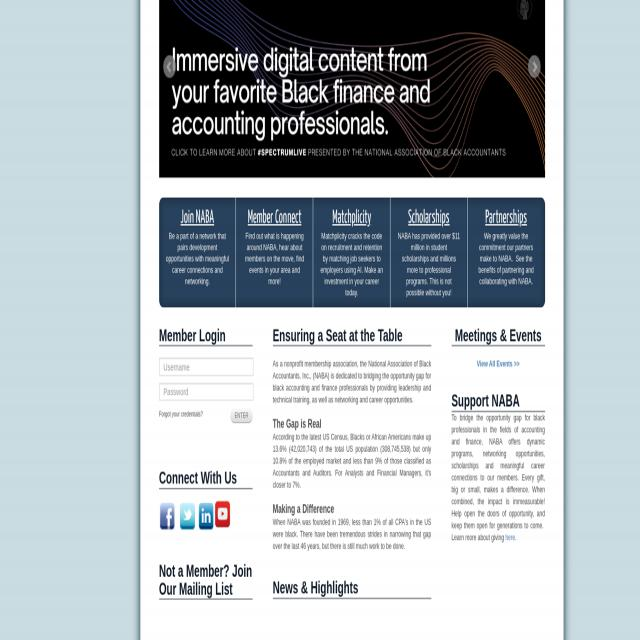button: (159, 501, 177, 531), (178, 501, 196, 531), (197, 501, 215, 531), (477, 359, 519, 369), (215, 501, 230, 528), (230, 408, 252, 423), (528, 55, 541, 77), (163, 55, 175, 77)
field: (159, 358, 253, 376), (159, 383, 253, 401)
